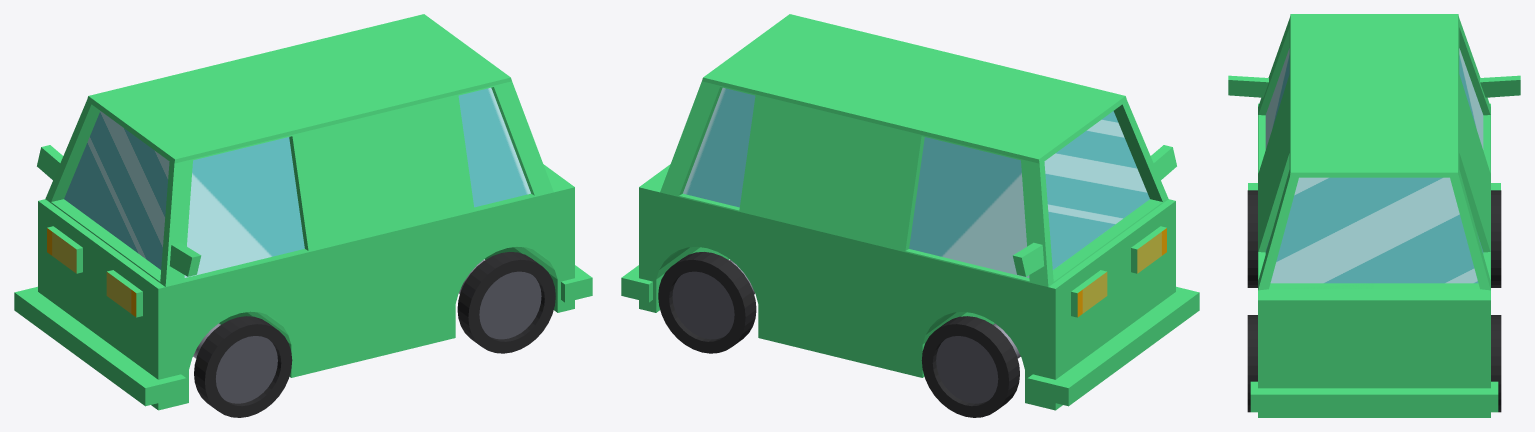
File: Car D.fbx
3 views of the same model, side by side, from view 1: azimuth 30°, elevation 25°; view 2: azimuth 150°, elevation 25°; view 3: azimuth 270°, elevation 25° (orthographic). The views are drawn at different scales.
Visible parts, largest first — view 1: Body.003, WBL.003, WFL.003; view 2: Body.003, WBR.003, WFR.003; view 3: Body.003, WFL.003, WFR.003, WBL.003, WBR.003.
Part boxes in pixels (box(x1,y1,x2,y2)): Body.003: box(14, 14, 592, 410); WBL.003: box(457, 252, 555, 353); WFL.003: box(194, 316, 292, 417); Body.003: box(621, 14, 1199, 410); WBR.003: box(658, 252, 756, 353); WFR.003: box(921, 316, 1019, 417); Body.003: box(1228, 14, 1520, 417); WFL.003: box(1247, 190, 1257, 287); WFR.003: box(1491, 190, 1501, 287); WBL.003: box(1247, 315, 1257, 412); WBR.003: box(1491, 315, 1501, 412).
Bounding box in the file's own units: 431 × 233 × 251.
Materials: 2 (2 with a texture image).
